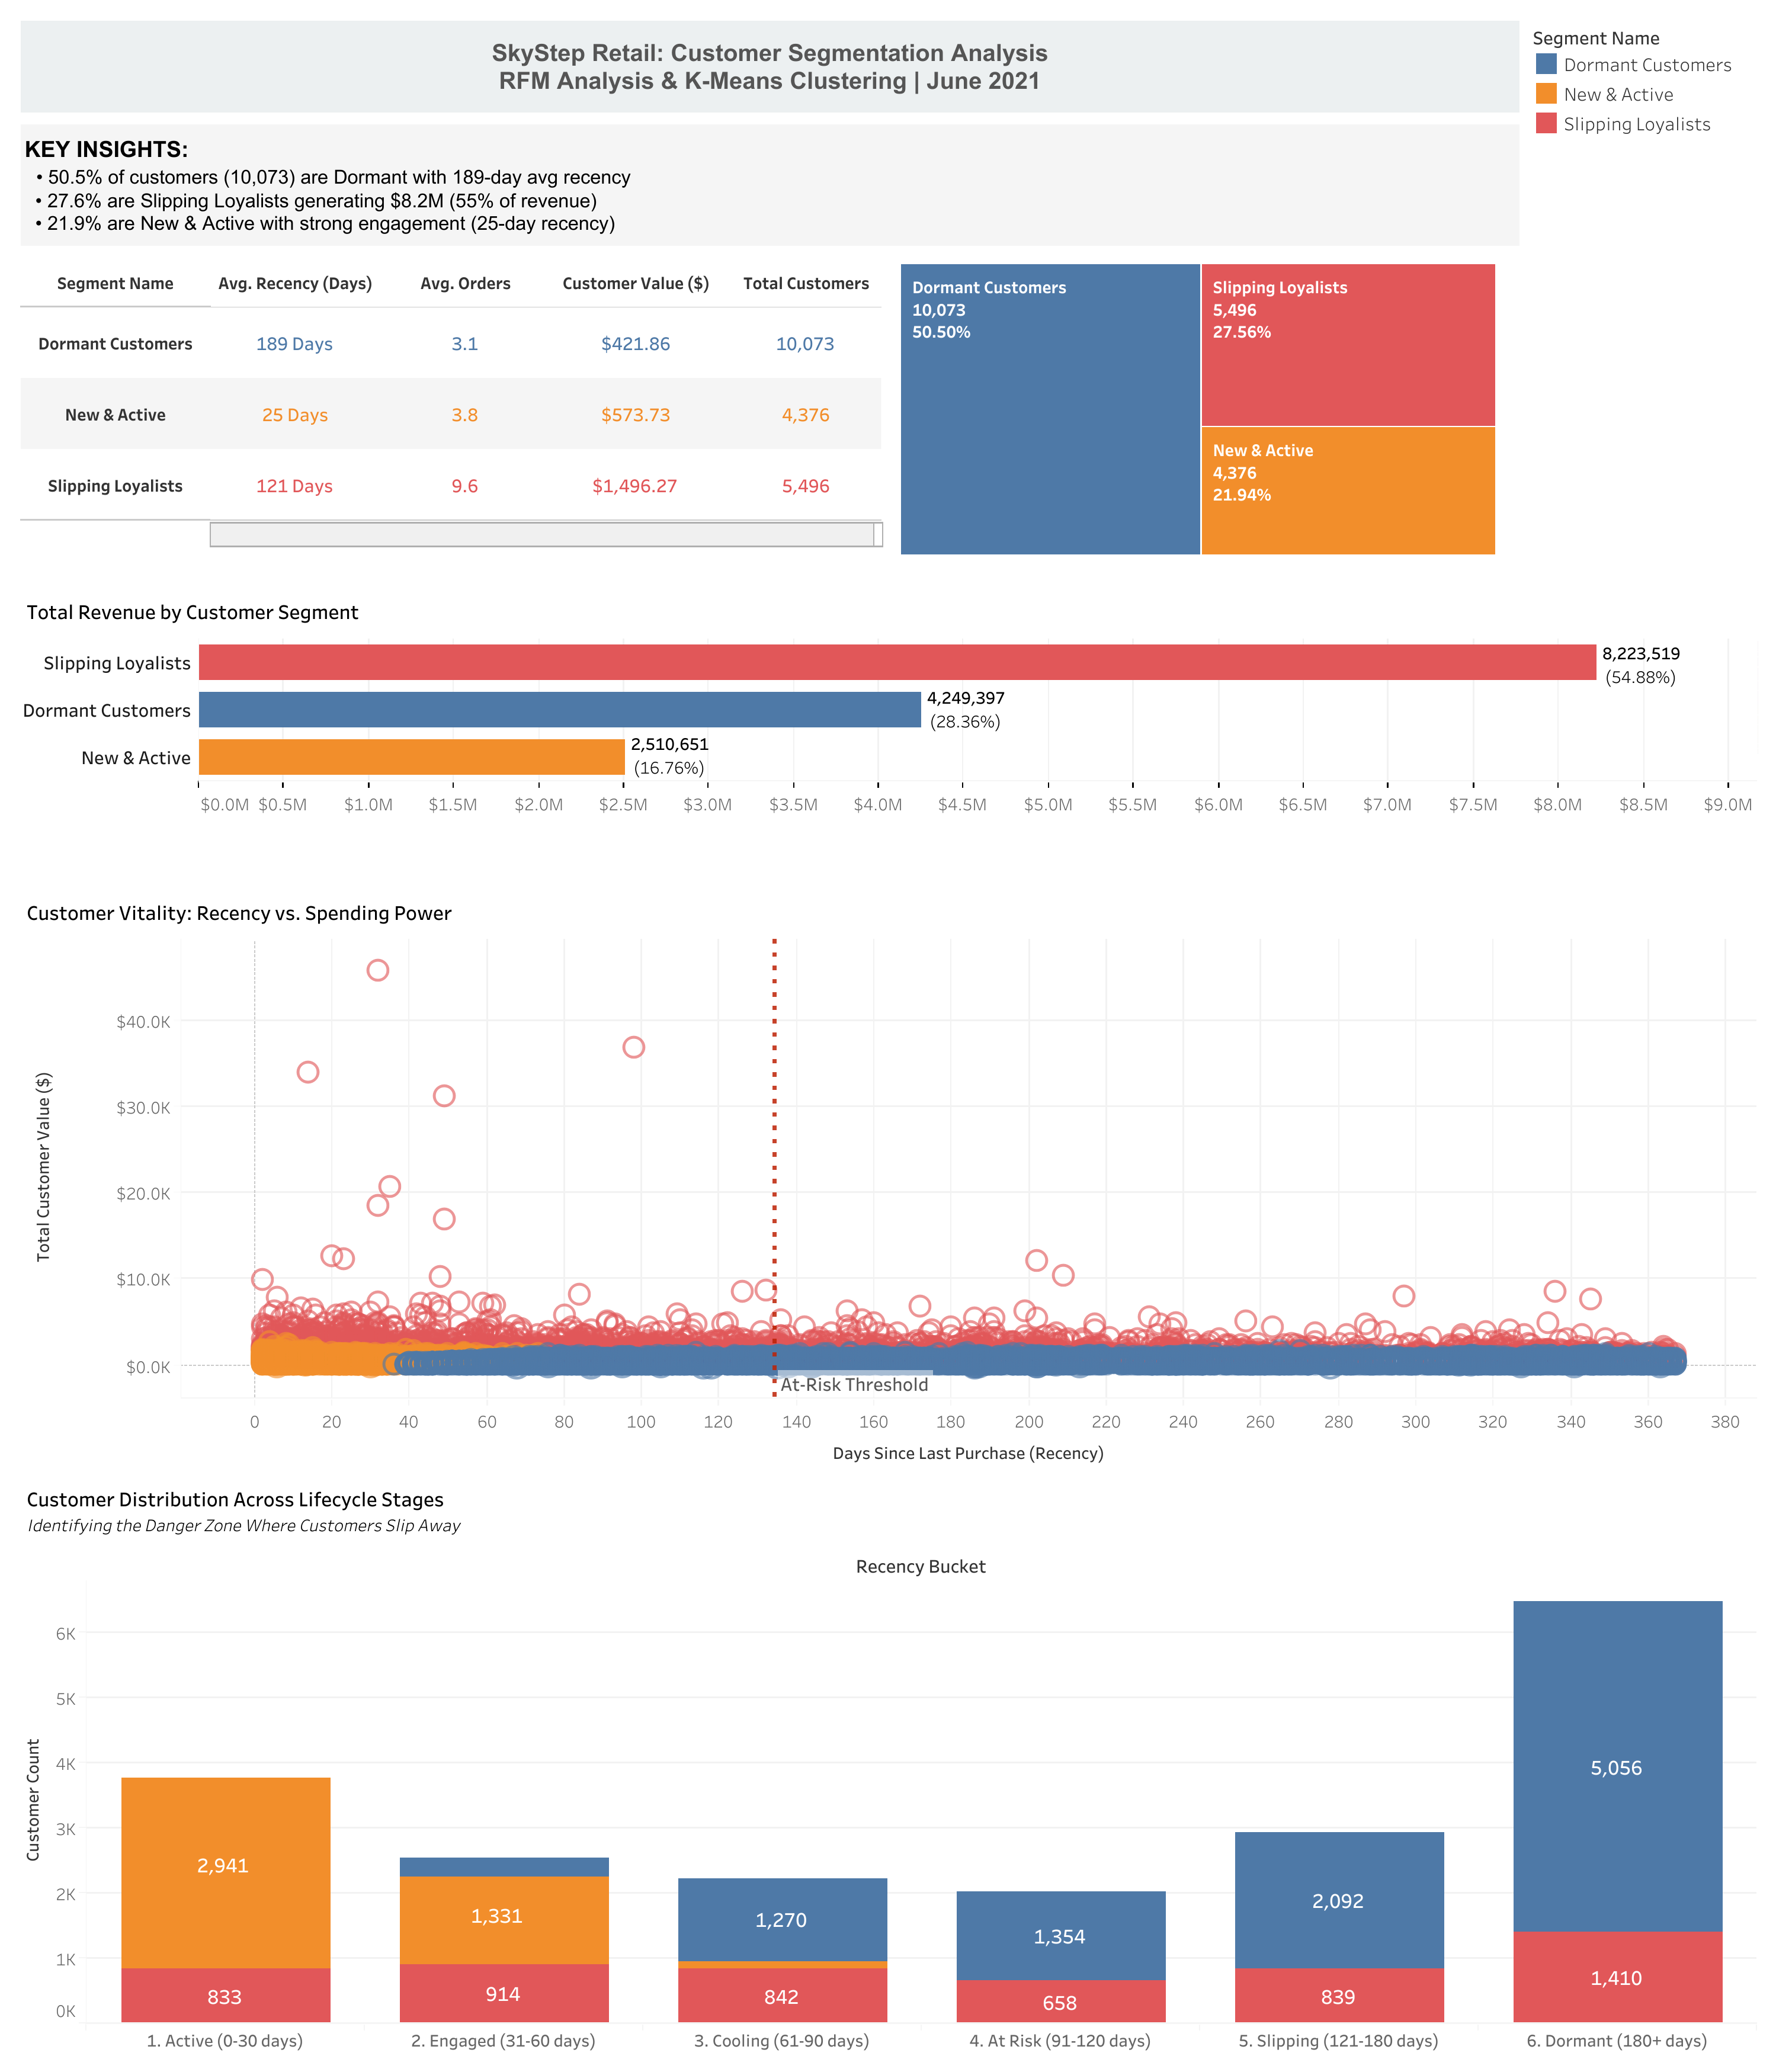

The page's visual inventory and layout, read from the dashboard file:
{"tool":"tableau","page":{"name":"SkyStep Customer Segmentation","canvas":[1200,1400],"ordinal":0},"visuals":[{"type":"text","box":[10,10,1020,69.8]},{"type":"legend","title":"1 - RFM Summary","param":"[federated.0la51cs1qaio92113v6p31ub2jut].[none:segment_name:nk]","box":[1030,10,160,93]},{"type":"text","box":[10,79.8,1020,90.3]},{"type":"worksheet","title":"1 - RFM Summary","mark":"Automatic","rows":["segment_name"],"box":[10,170,589.7,222.8]},{"type":"worksheet","title":"7 - Portfolio Mix","mark":"Square","box":[599.7,170,430.3,222.8]},{"type":"worksheet","title":"3 - Revenue Contribution","mark":"Automatic","rows":["segment_name"],"cols":["monetary"],"box":[10,392.9,1180,203.4]},{"type":"worksheet","title":"Recency Vs Value","mark":"Automatic","rows":["monetary"],"cols":["recency"],"box":[10,596.3,1180,395.9]},{"type":"worksheet","title":"4 - Customer Lifecycle","mark":"Bar","rows":["Calculation_1158832522777808897"],"cols":["Calculation_1158832523529334786"],"box":[10,992.1,1180,397.9]}]}

Visuals, with their boxes in screenshot pixels (x1, y1, x2, y2), scaled from the page's 1200x1400 canvas onto the 1776x2072 screenshot:
text: (left=15, top=15, right=1524, bottom=118)
"1 - RFM Summary" legend: (left=1524, top=15, right=1761, bottom=152)
text: (left=15, top=118, right=1524, bottom=252)
"1 - RFM Summary" worksheet: (left=15, top=252, right=887, bottom=581)
"7 - Portfolio Mix" worksheet (Square marks): (left=887, top=252, right=1524, bottom=581)
"3 - Revenue Contribution" worksheet: (left=15, top=582, right=1761, bottom=883)
"Recency Vs Value" worksheet: (left=15, top=883, right=1761, bottom=1468)
"4 - Customer Lifecycle" worksheet (Bar marks): (left=15, top=1468, right=1761, bottom=2057)
